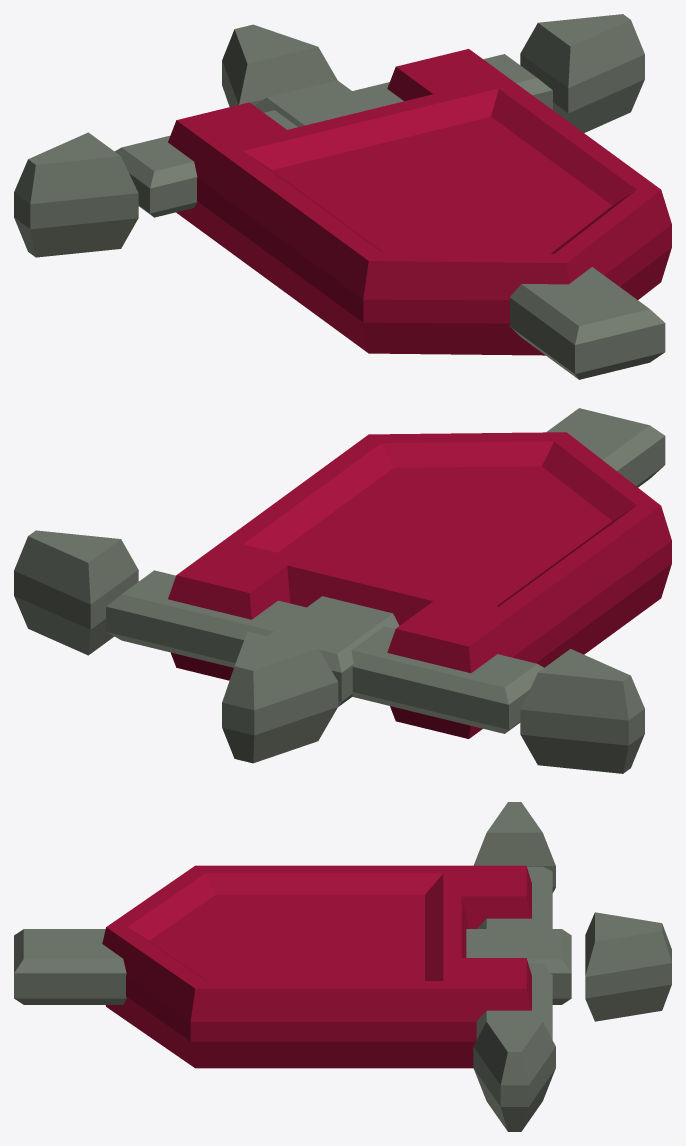
Rendered from Marker_LocationV2.fbx.
The picture shows the model from 3 angles, top to bottom: view 1: azimuth 30°, elevation 25°; view 2: azimuth 150°, elevation 25°; view 3: azimuth 270°, elevation 25°; orthographic projection. The views are drawn at different scales.
Parts seen in each view (by area): view 1: Marker_LocationV2; view 2: Marker_LocationV2; view 3: Marker_LocationV2.
Boxes of the visible parts, x1,y1,x2,y2 form: Marker_LocationV2: (14,14,671,379); Marker_LocationV2: (14,408,671,773); Marker_LocationV2: (14,802,671,1131).
Size of the model in its own units: 139 by 20 by 150.
